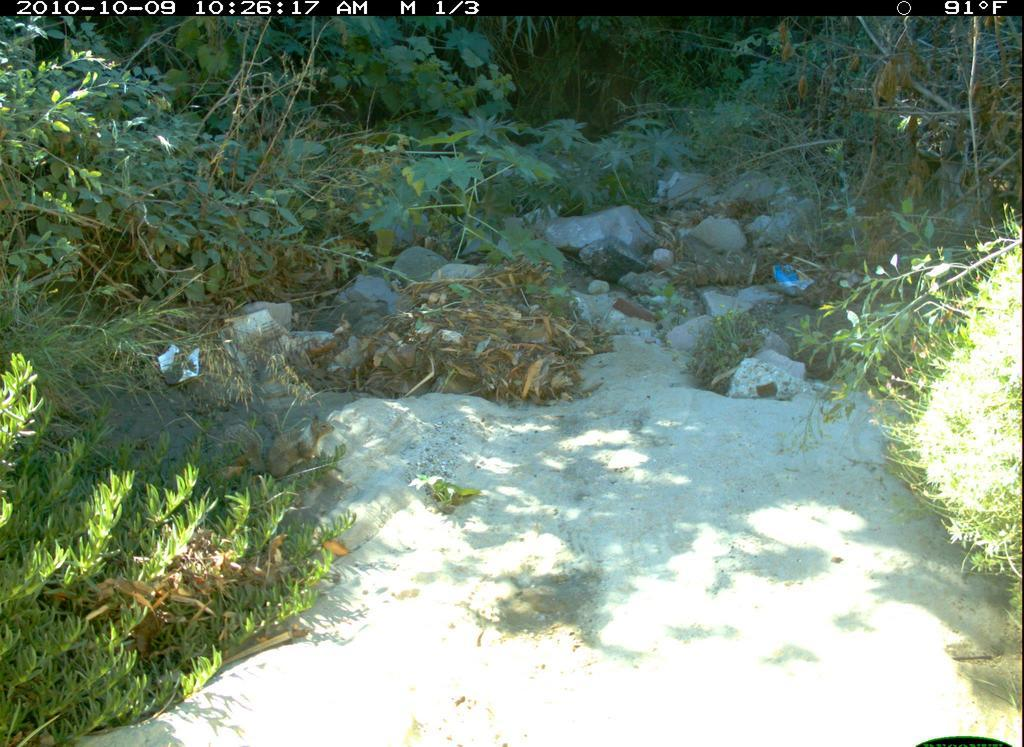squirrel: (201, 406, 342, 489)
